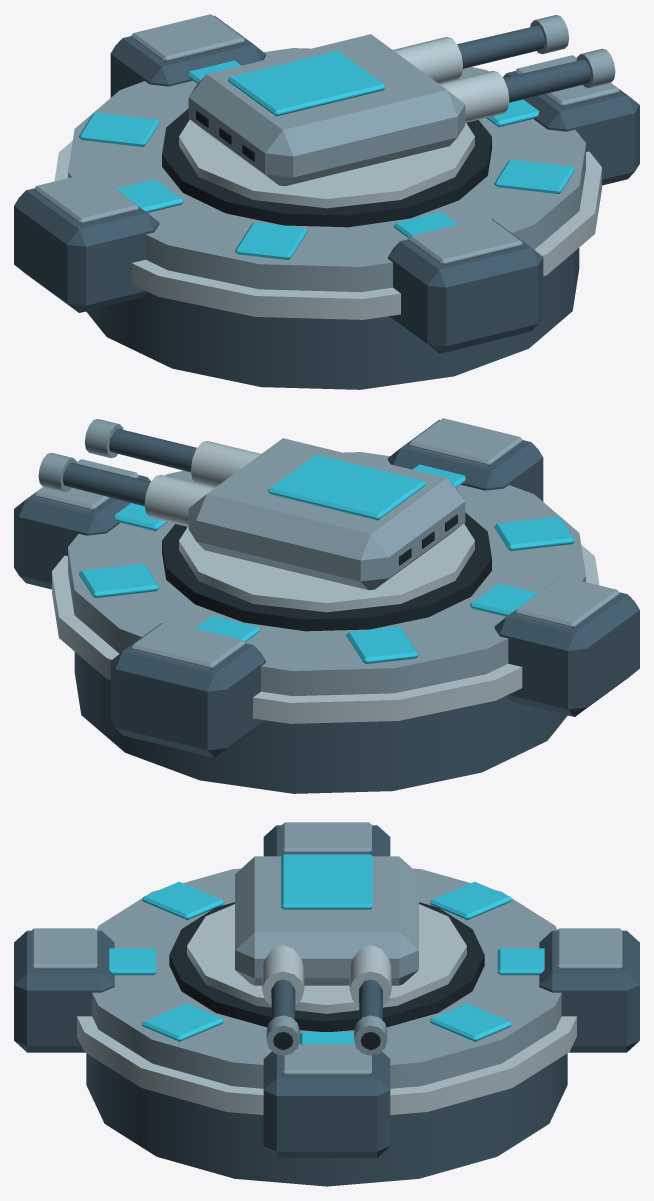
Rendered from platform.glb.
3 views of the same model, one above another, from view 1: azimuth 30°, elevation 25°; view 2: azimuth 150°, elevation 25°; view 3: azimuth 270°, elevation 25° (orthographic). The views are drawn at different scales.
Parts seen in each view (by area): view 1: Platform / cardinal roof, Platform / cannon barrel, Platform / cannon sleeve, Platform / ring faction tile, Platform / bore; view 2: Platform / cardinal roof, Platform / cannon barrel, Platform / cannon sleeve, Platform / ring faction tile, Platform / bore; view 3: Platform / cardinal roof, Platform / cannon barrel, Platform / cannon sleeve, Platform / ring faction tile, Platform / bore.
Part boxes in pixels (x1,y1,x2,y2): Platform / cardinal roof: [34, 14, 619, 292]; Platform / cannon barrel: [14, 15, 639, 389]; Platform / cannon sleeve: [54, 37, 601, 319]; Platform / ring faction tile: [79, 49, 574, 259]; Platform / bore: [162, 108, 491, 227]; Platform / cardinal roof: [34, 418, 619, 696]; Platform / cannon barrel: [14, 419, 639, 793]; Platform / cannon sleeve: [52, 441, 599, 723]; Platform / ring faction tile: [79, 453, 574, 663]; Platform / bore: [162, 512, 491, 631]; Platform / cardinal roof: [31, 822, 622, 1088]; Platform / cannon barrel: [14, 825, 639, 1186]; Platform / cannon sleeve: [77, 904, 576, 1114]; Platform / ring faction tile: [109, 854, 544, 1044]; Platform / bore: [169, 902, 484, 1050].
Size of the model in its own units: 14.3 by 5.31 by 14.3.
